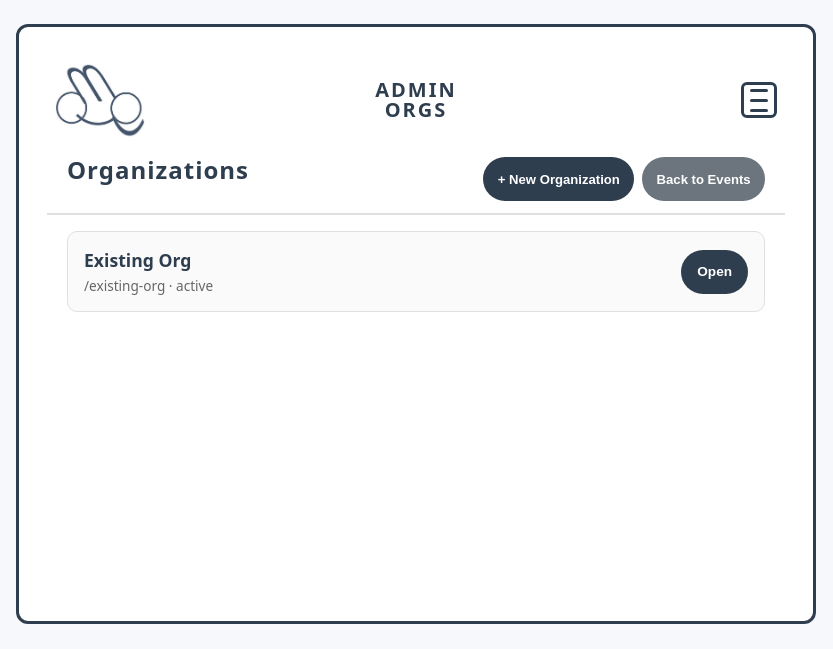
Scenario: AdminOrganizationList › lets a superadmin create an organization and adds it to the list
This screenshot has width=833, height=649.
Click the button "+ New Organization" at point(559, 179), box [483,157,634,201]
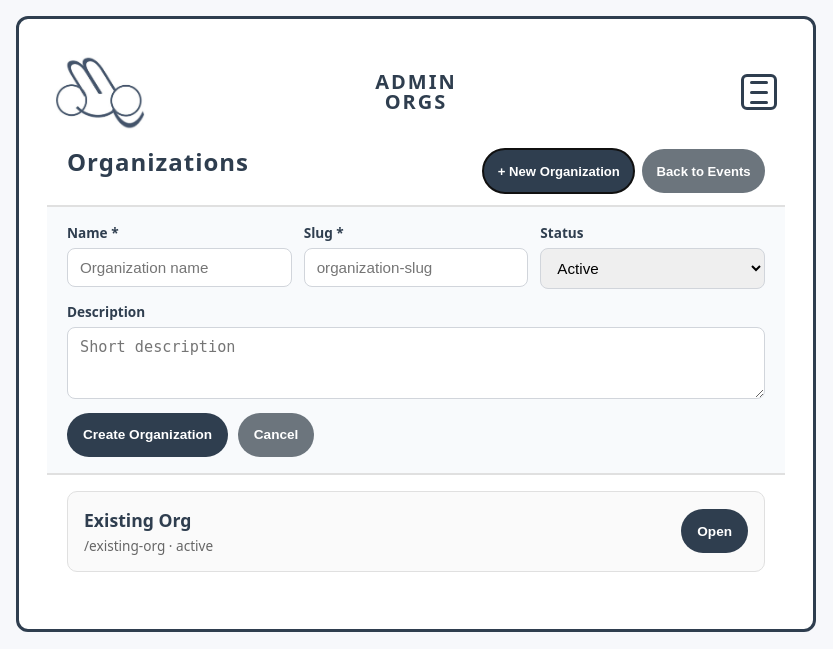
Type "New Partner" into the field labelled "Name *" at point(179, 268), box [67,248,292,287]
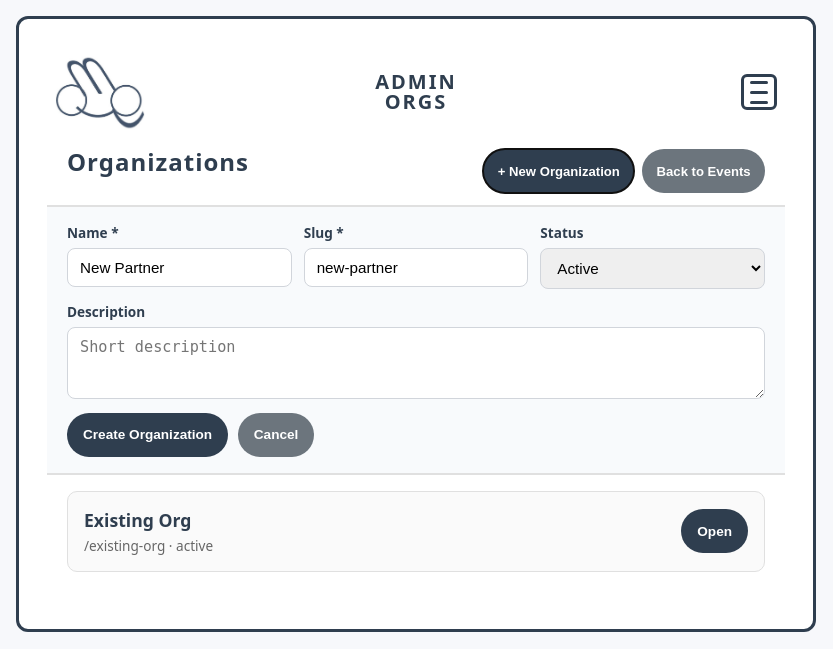
Type "Partner org" into the text box labelled "Description" at point(416, 363), box [67,327,765,399]
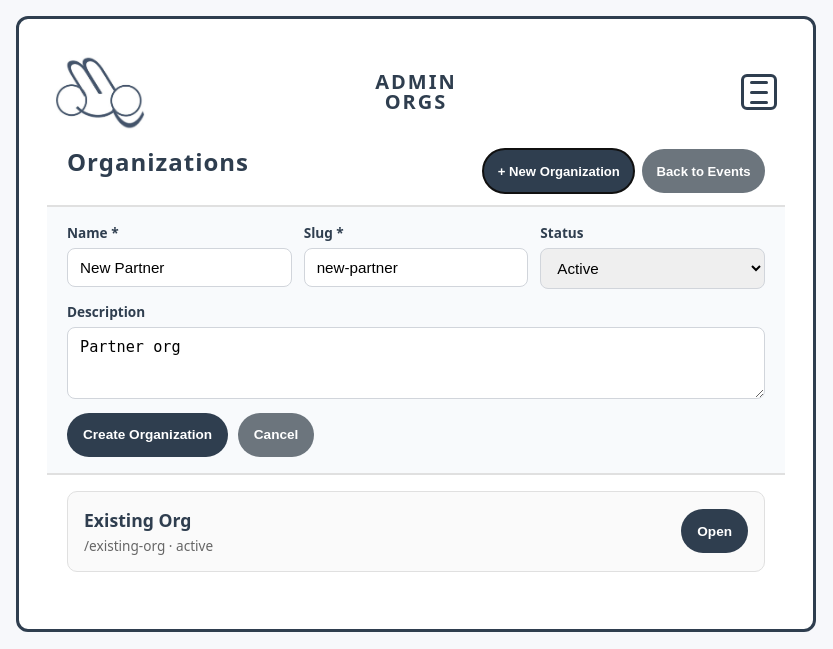
Select "Inactive" in the dropdown labelled "Status" at point(653, 268), box [540,248,765,289]
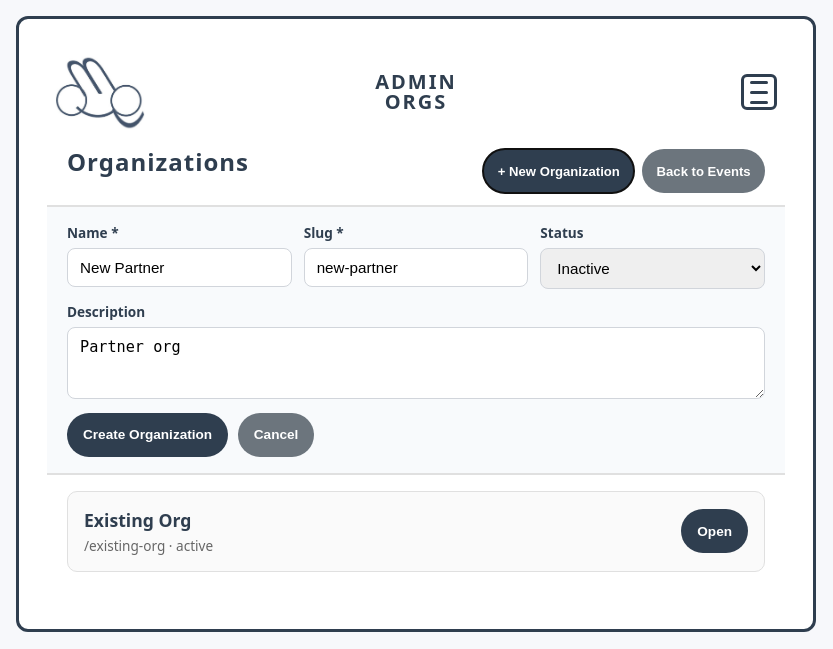
Click the button "Create Organization" at point(148, 435), box [67,413,228,457]
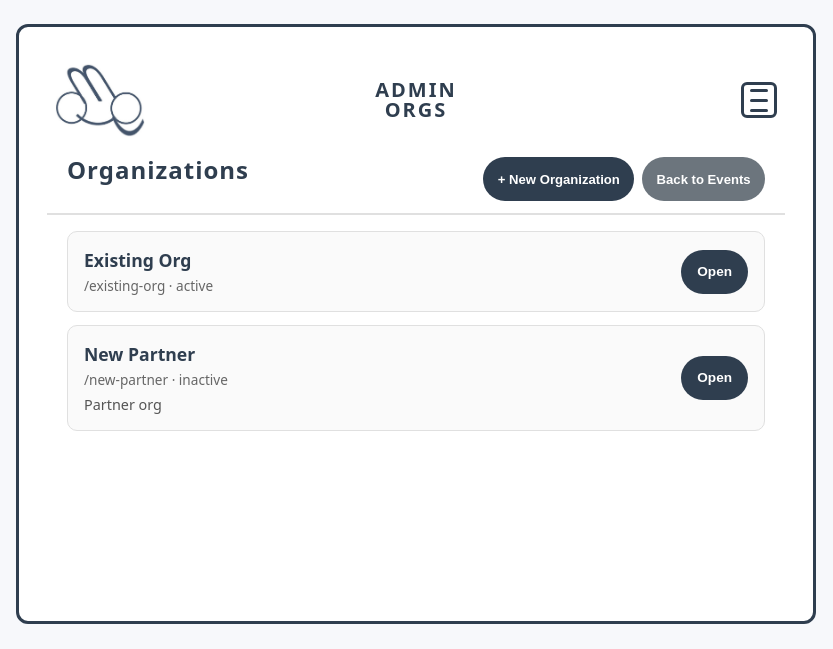
Result: the link "New Partner" is shown at [84,342,195,366]
